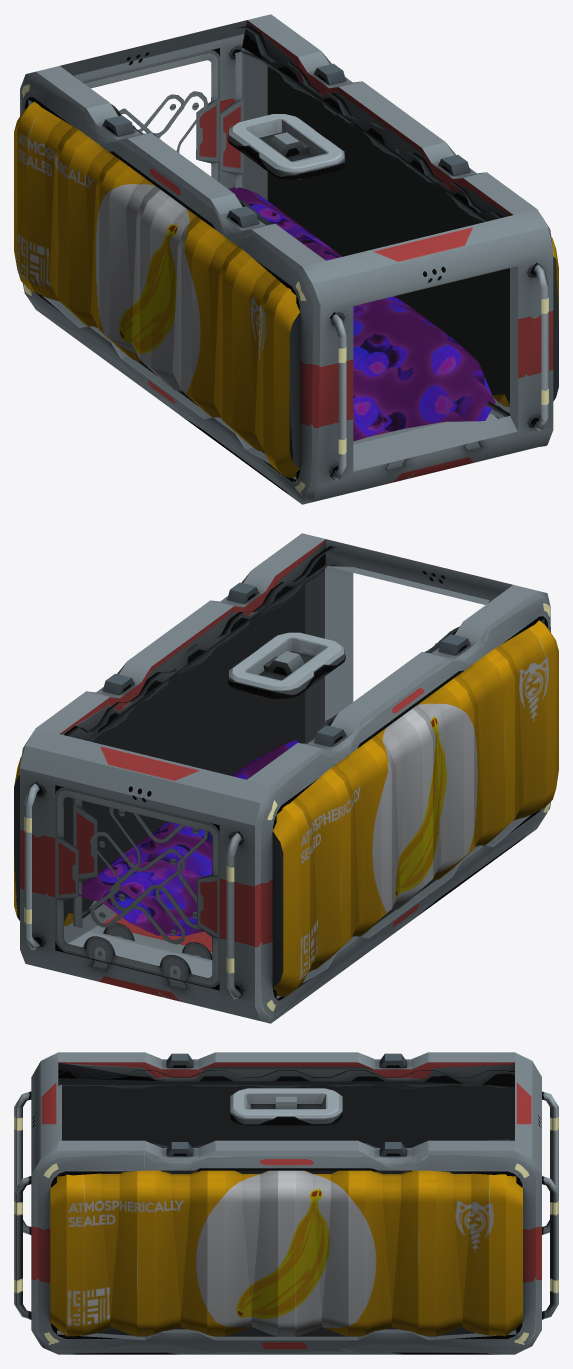
The model's file is env_building_container_blueberry_lod1.fbx.
3 views of the same model, one above another, from view 1: azimuth 30°, elevation 25°; view 2: azimuth 150°, elevation 25°; view 3: azimuth 270°, elevation 25° (orthographic). The views are drawn at different scales.
Visible parts, largest first — view 1: env_building_container_blueberry_lod1; view 2: env_building_container_blueberry_lod1; view 3: env_building_container_blueberry_lod1.
Boxes of the visible parts, x1,y1,x2,y2 form: env_building_container_blueberry_lod1: (14,14,558,504); env_building_container_blueberry_lod1: (14,533,558,1023); env_building_container_blueberry_lod1: (14,1052,558,1354).
Bounding box in the file's own units: 19.98 × 16.24 × 38.94.
